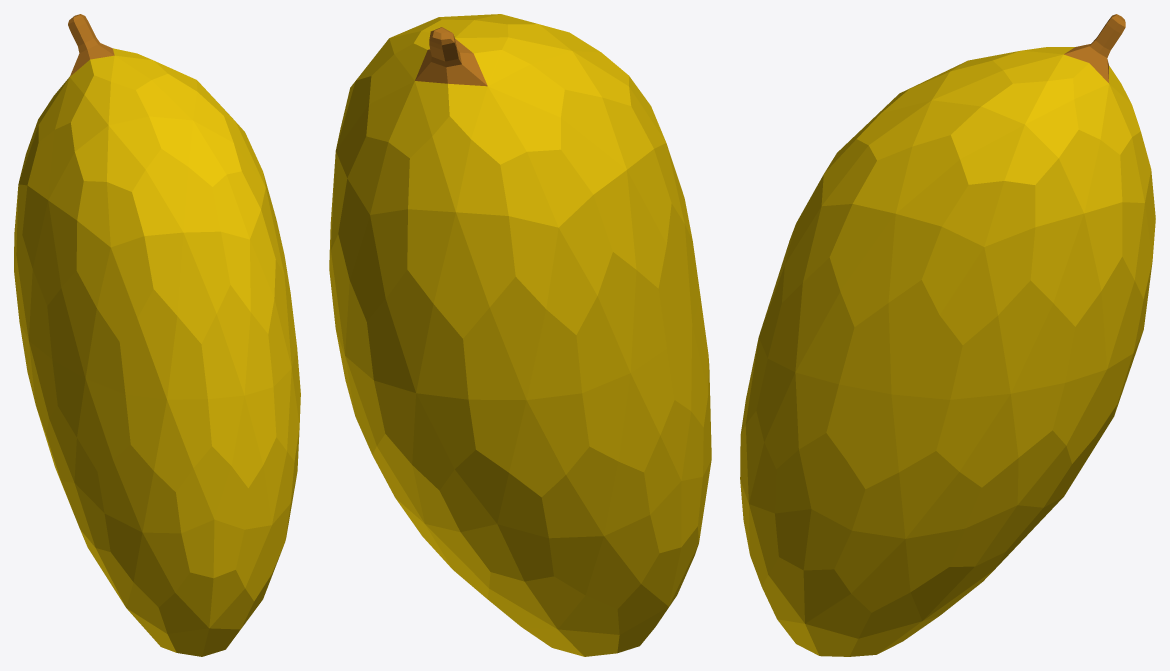
File: mango_0.fbx
3 views of the same model, side by side, from view 1: azimuth 30°, elevation 25°; view 2: azimuth 150°, elevation 25°; view 3: azimuth 270°, elevation 25° (orthographic). The views are drawn at different scales.
Parts seen in each view (by area): view 1: mango_0; view 2: mango_0; view 3: mango_0.
Boxes of the visible parts, x1,y1,x2,y2 form: mango_0: (14, 14, 300, 656); mango_0: (329, 14, 711, 656); mango_0: (740, 14, 1155, 656).
Bounding box in the file's own units: 90.16 × 216 × 127.
